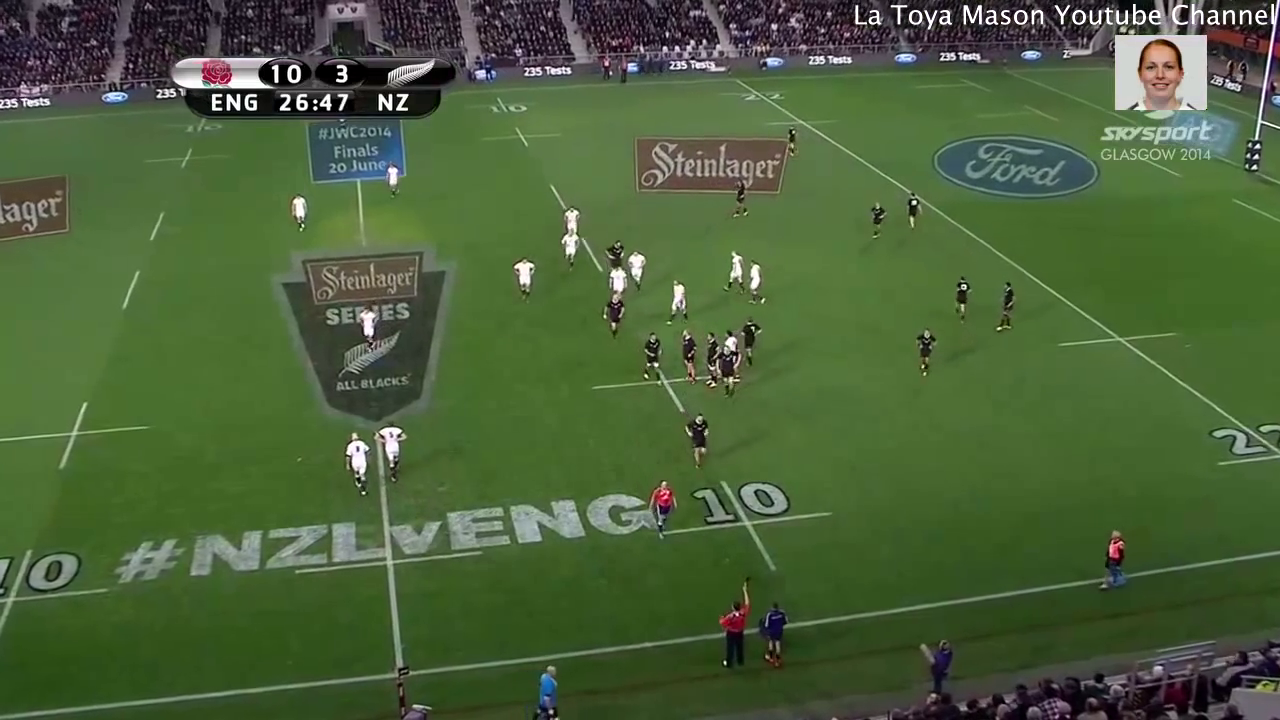10_metre: (656, 471, 841, 576), (1, 538, 112, 661), (1, 389, 154, 471), (584, 352, 760, 421), (139, 141, 235, 172), (478, 120, 568, 151), (461, 93, 552, 114), (157, 111, 238, 134)
player: (368, 413, 408, 494), (678, 409, 717, 477), (341, 428, 374, 501), (648, 477, 681, 541), (711, 343, 746, 403), (508, 253, 543, 310), (910, 324, 942, 386), (719, 245, 753, 303), (989, 276, 1019, 339), (598, 289, 629, 349), (354, 302, 385, 360), (661, 274, 693, 330), (734, 311, 762, 374), (674, 325, 701, 390), (946, 272, 977, 328), (698, 325, 722, 396), (638, 330, 665, 391), (725, 174, 757, 225), (743, 254, 773, 307), (557, 226, 585, 280), (862, 194, 891, 245), (284, 190, 313, 236), (622, 247, 646, 297), (901, 187, 924, 237), (380, 160, 405, 200), (606, 263, 629, 305), (603, 235, 626, 275), (783, 119, 803, 163), (718, 322, 739, 363), (559, 201, 583, 236)
post: (1236, 1, 1280, 184)
